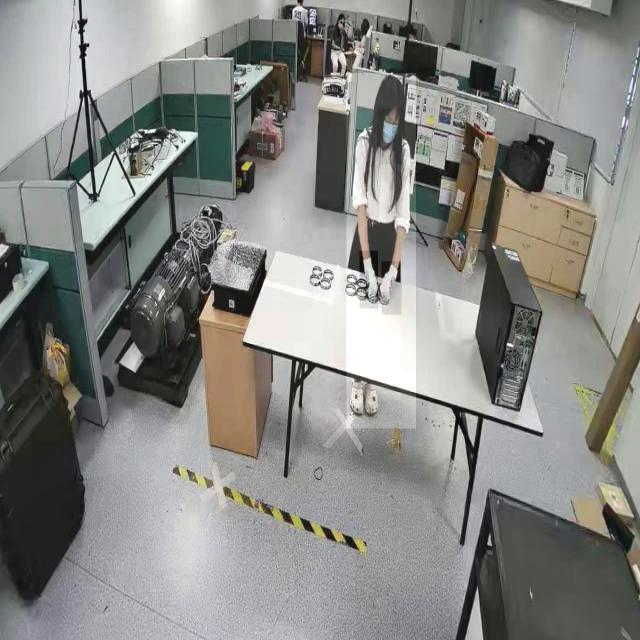face_mask: (377, 109, 405, 164), (337, 18, 344, 36)
hand_glove: (359, 251, 378, 309), (381, 262, 401, 316)
head_nohelmet: (375, 73, 405, 107), (338, 12, 346, 18)
person: (346, 73, 416, 429), (323, 8, 345, 82)
